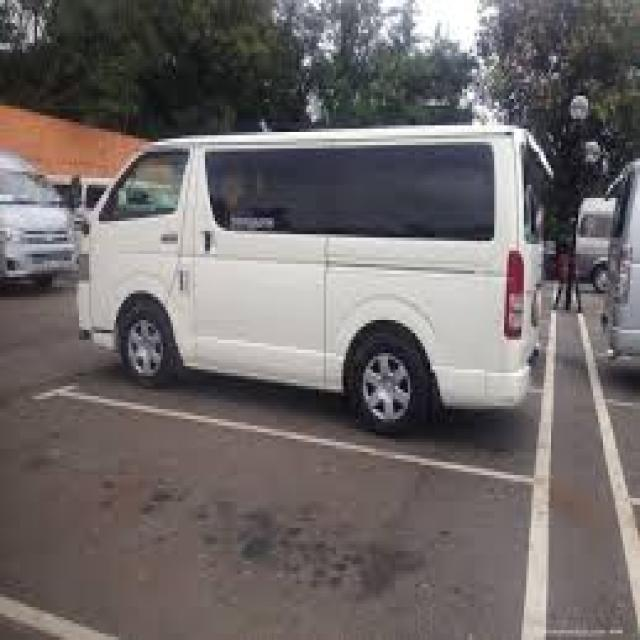van: (82, 125, 549, 429), (0, 152, 77, 287), (608, 158, 638, 353), (576, 198, 613, 290)
